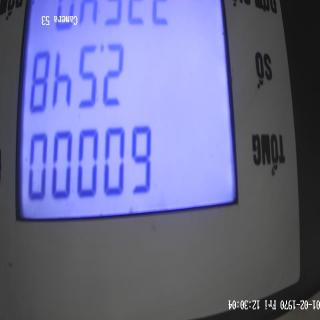screen: (10, 0, 246, 228)
